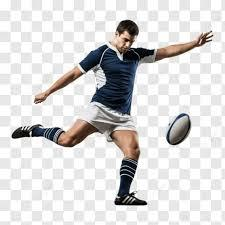ballon_rugby: (165, 113, 192, 146)
